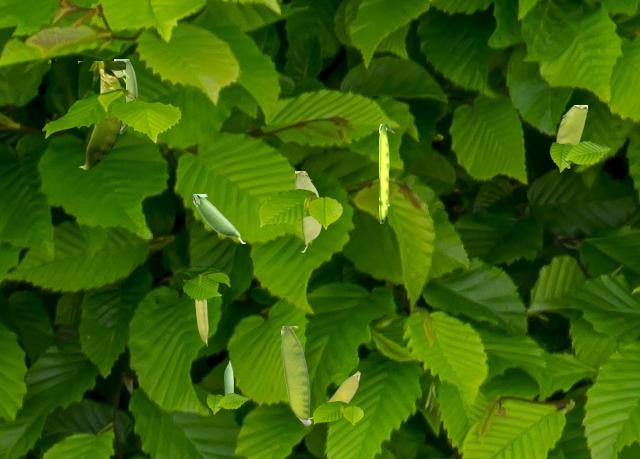pea: (78, 61, 124, 169), (281, 326, 310, 424), (193, 194, 244, 242), (310, 371, 359, 419), (295, 171, 320, 251), (556, 105, 586, 167), (114, 59, 137, 134), (379, 124, 393, 222), (195, 299, 207, 345), (224, 360, 232, 394)
